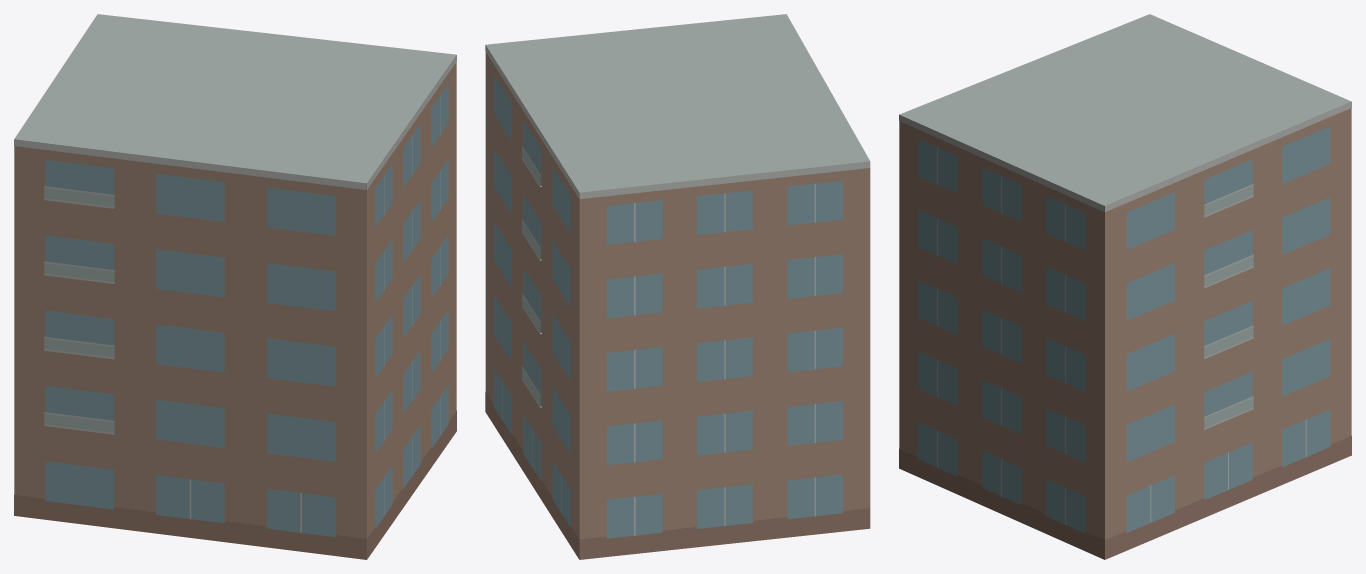
File: survey-upis-32974669.glb
3 views of the same model, side by side, from view 1: azimuth 30°, elevation 25°; view 2: azimuth 150°, elevation 25°; view 3: azimuth 270°, elevation 25° (orthographic). The views are drawn at different scales.
Parts seen in each view (by area): view 1: survey-upis-32974669.tmp; view 2: survey-upis-32974669.tmp; view 3: survey-upis-32974669.tmp.
Boxes of the visible parts, x1=… form: survey-upis-32974669.tmp: x1=14, y1=14, x2=456, y2=559; survey-upis-32974669.tmp: x1=485, y1=14, x2=870, y2=559; survey-upis-32974669.tmp: x1=899, y1=14, x2=1351, y2=559.
Size of the model in its own units: 15.95 by 13.7 by 15.89.
